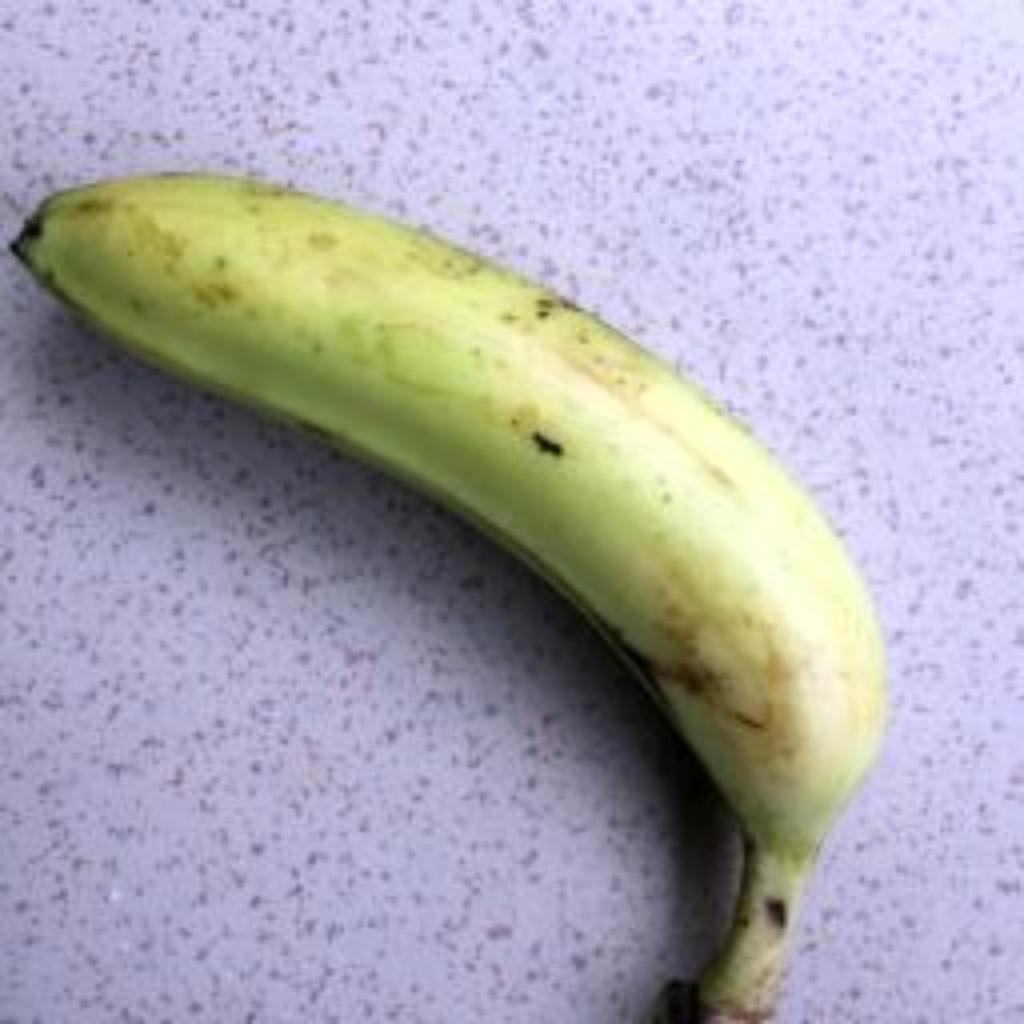banana: (12, 174, 886, 1024)
